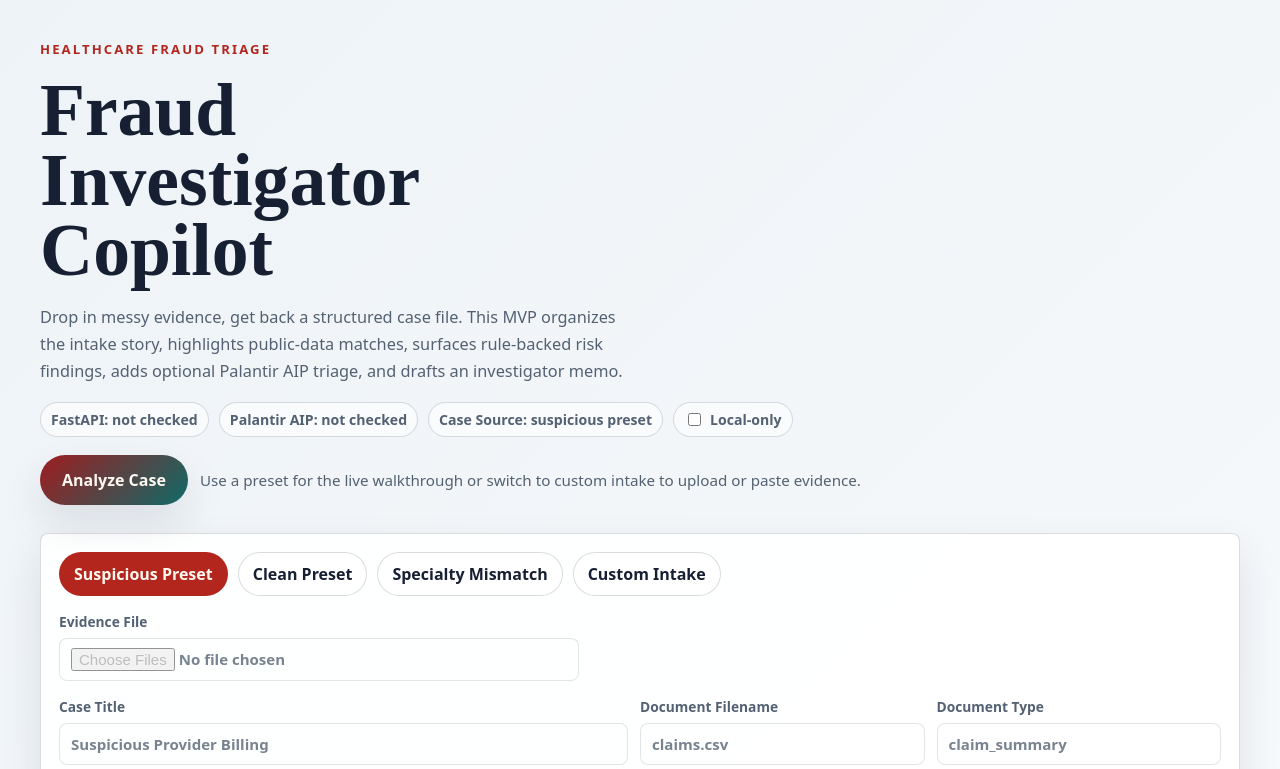
Scenario: HomePage › sends local-only comparison mode to the analyze endpoint
Click the checkbox labelled "Local-only" at (694, 420), box [688,413,701,426]
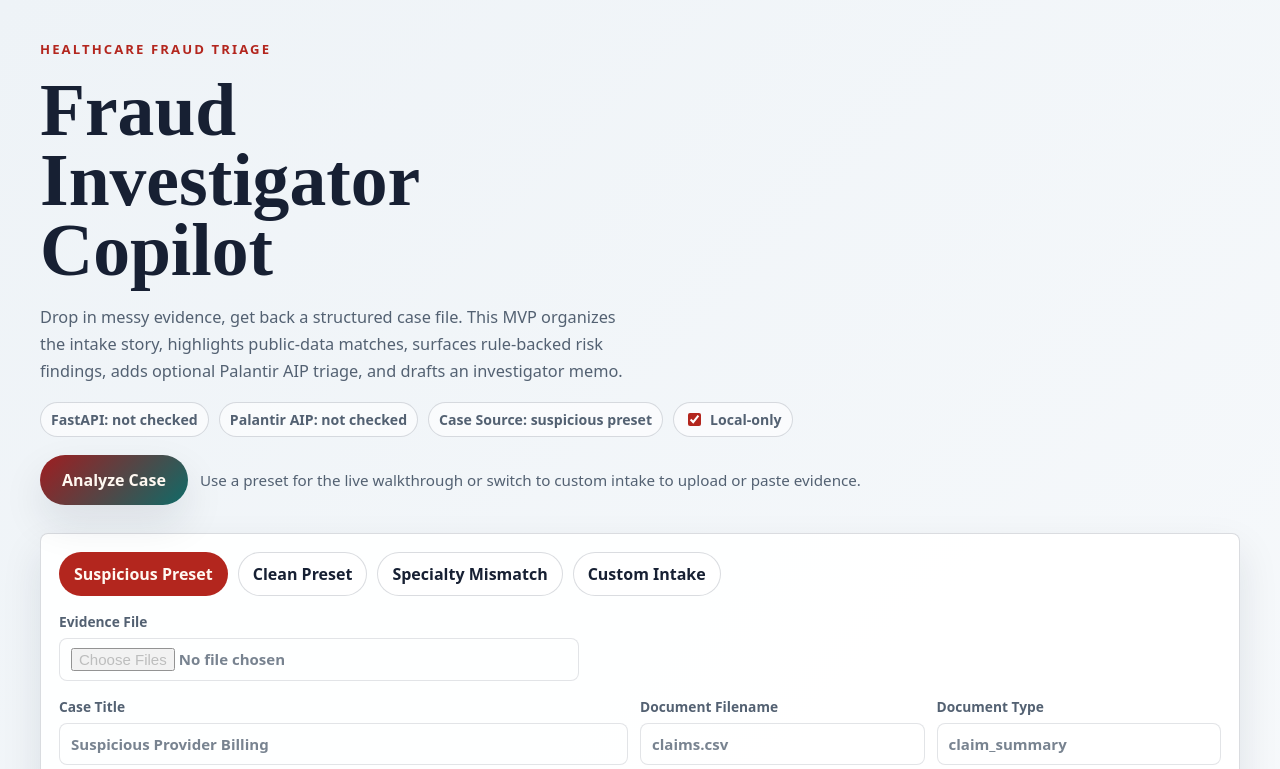
Click the button "Analyze Case" at (114, 480), box [40,455,188,505]
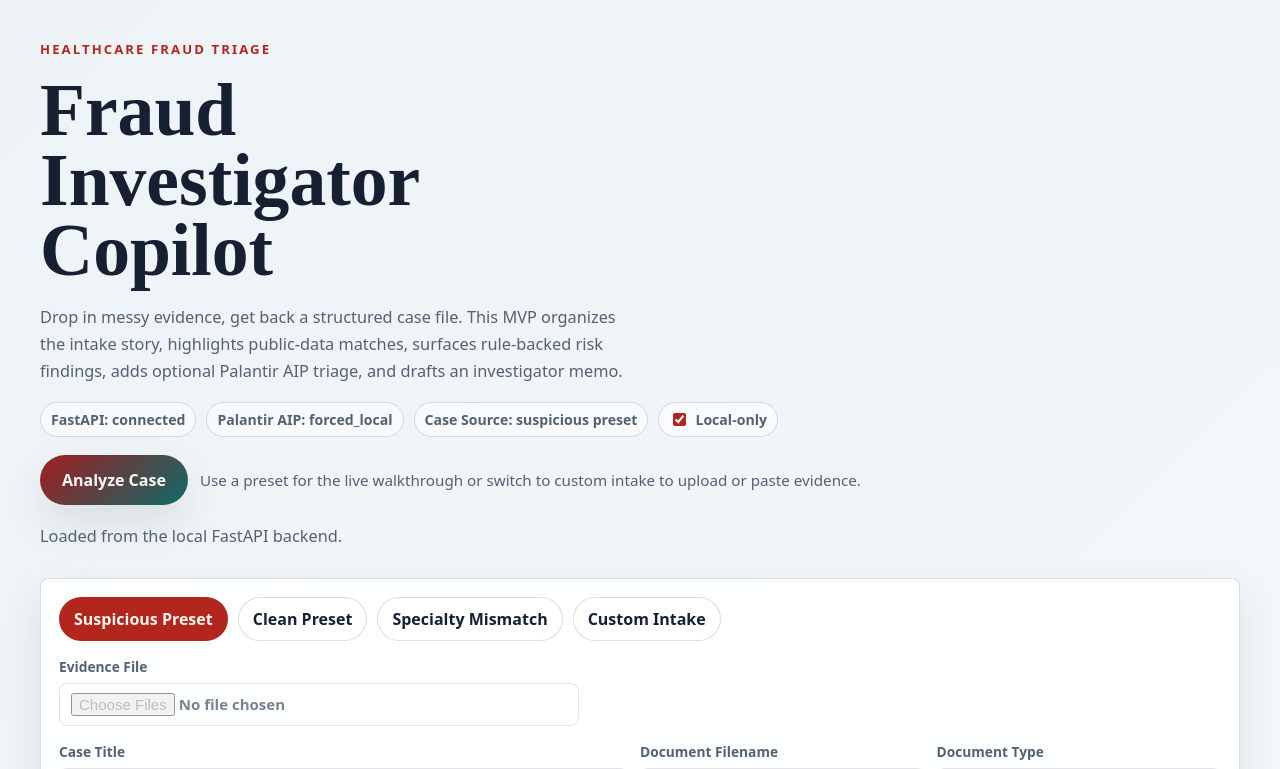
Expected: the text "Palantir AIP: forced_local" is shown, [206,402,404,437]
